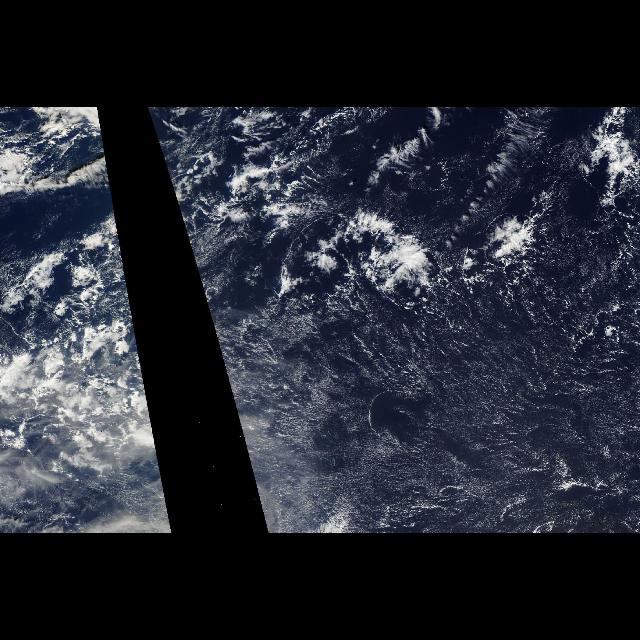Gravel: (176, 122, 330, 260)
Sugar: (273, 327, 633, 529)
